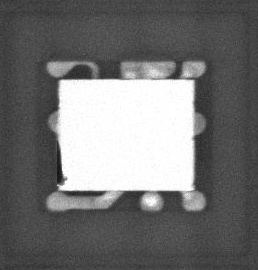DIE_BROKEN: (53, 138, 69, 186)
